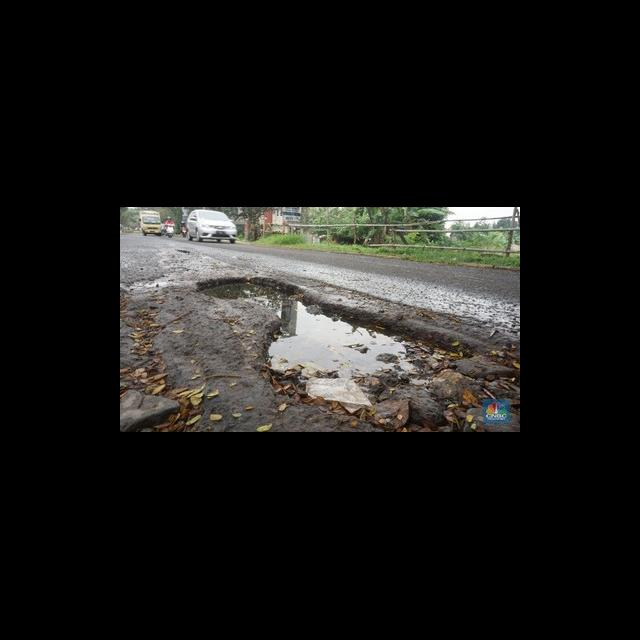lubang_kecil: (189, 275, 473, 415)
